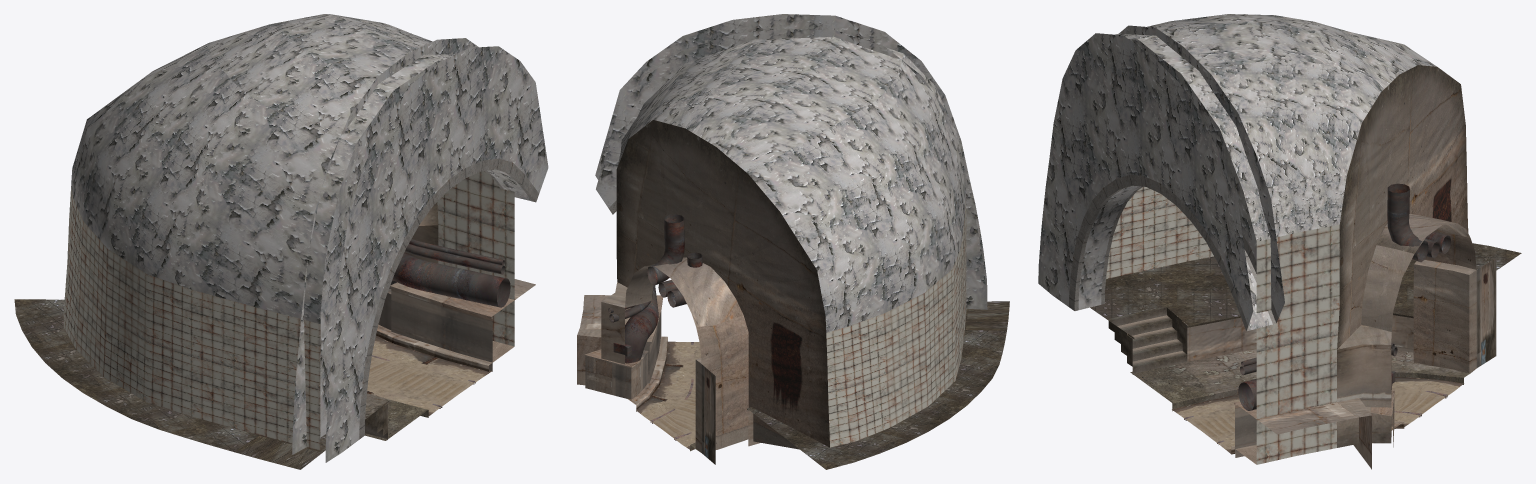
File: FBX_corner_section_d_rev.fbx
The picture shows the model from 3 angles, left to right: view 1: azimuth 30°, elevation 25°; view 2: azimuth 150°, elevation 25°; view 3: azimuth 270°, elevation 25°; orthographic projection. The views are drawn at different scales.
Visible parts, largest first — view 1: corner_section_d_ceiling, corner_section_d_arch_2, corner_section_d_tile_wall, corner_section_d_upperLevel_floor, corner_section_d_shelf_b, corner_section_d_ground, corner_section_d_drain_pipe_a, corner_section_d_arch_2_bricks, corner_section_d_upperLevel_floor_a, corner_section_d_lower_floor_2, corner_section_d_lower_floor_1, corner_section_d_drain_pipe_b (+3 smaller); view 2: corner_section_d_ceiling, corner_section_d_arch_1, corner_section_d_tile_wall, corner_section_d_arch_2, corner_section_d_upperLevel_floor, corner_section_d_ground, corner_section_d_shelf_a, corner_section_d_shelf_b, corner_section_d_roof_pipe_a, corner_section_d_drain_pipe_a, corner_section_d_upperLevel_floor_a, corner_section_d_lower_floor_2 (+1 smaller); view 3: corner_section_d_arch_2, corner_section_d_ceiling, corner_section_d_arch_1, corner_section_d_tile_wall, corner_section_d_block, corner_section_d_upperLevel_floor, corner_section_d_lower_floor_1, corner_section_d_ground, corner_section_d_arch_2_bricks, corner_section_d_steps, corner_section_d_shelf_b, corner_section_d_a_sideWall (+3 smaller).
Part boxes in pixels (x1,y1,x2,y2): corner_section_d_ceiling: (71,14,455,323); corner_section_d_arch_2: (292,38,548,462); corner_section_d_tile_wall: (63,171,514,450); corner_section_d_upperLevel_floor: (14,299,259,451); corner_section_d_shelf_b: (389,279,535,371); corner_section_d_ground: (367,335,491,415); corner_section_d_drain_pipe_a: (389,252,510,307); corner_section_d_arch_2_bricks: (359,158,538,439); corner_section_d_upperLevel_floor_a: (234,434,326,469); corner_section_d_lower_floor_2: (376,324,514,371); corner_section_d_lower_floor_1: (365,393,428,440); corner_section_d_drain_pipe_b: (405,244,505,274); corner_section_d_ceiling: (617,30,965,332); corner_section_d_arch_1: (601,120,829,464); corner_section_d_tile_wall: (826,201,966,447); corner_section_d_arch_2: (595,14,987,309); corner_section_d_upperLevel_floor: (747,330,1006,469); corner_section_d_ground: (636,341,700,450); corner_section_d_shelf_a: (584,349,648,399); corner_section_d_shelf_b: (577,295,662,385); corner_section_d_roof_pipe_a: (647,214,684,285); corner_section_d_drain_pipe_a: (625,285,658,363); corner_section_d_upperLevel_floor_a: (965,301,1009,330); corner_section_d_lower_floor_2: (627,336,667,411); corner_section_d_arch_2: (1038,25,1284,330); corner_section_d_ceiling: (1115,14,1436,241); corner_section_d_arch_1: (1337,65,1496,447); corner_section_d_tile_wall: (1106,186,1339,464); corner_section_d_block: (1413,260,1476,373); corner_section_d_upperLevel_floor: (1128,243,1521,327); corner_section_d_lower_floor_1: (1130,349,1474,411); corner_section_d_ground: (1172,377,1464,453); corner_section_d_arch_2_bricks: (1069,175,1278,331); corner_section_d_steps: (1107,306,1188,374); corner_section_d_shelf_b: (1234,398,1371,469); corner_section_d_a_sideWall: (1187,315,1413,361).
Size of the model in its own units: 22.13 by 21.36 by 17.43.
